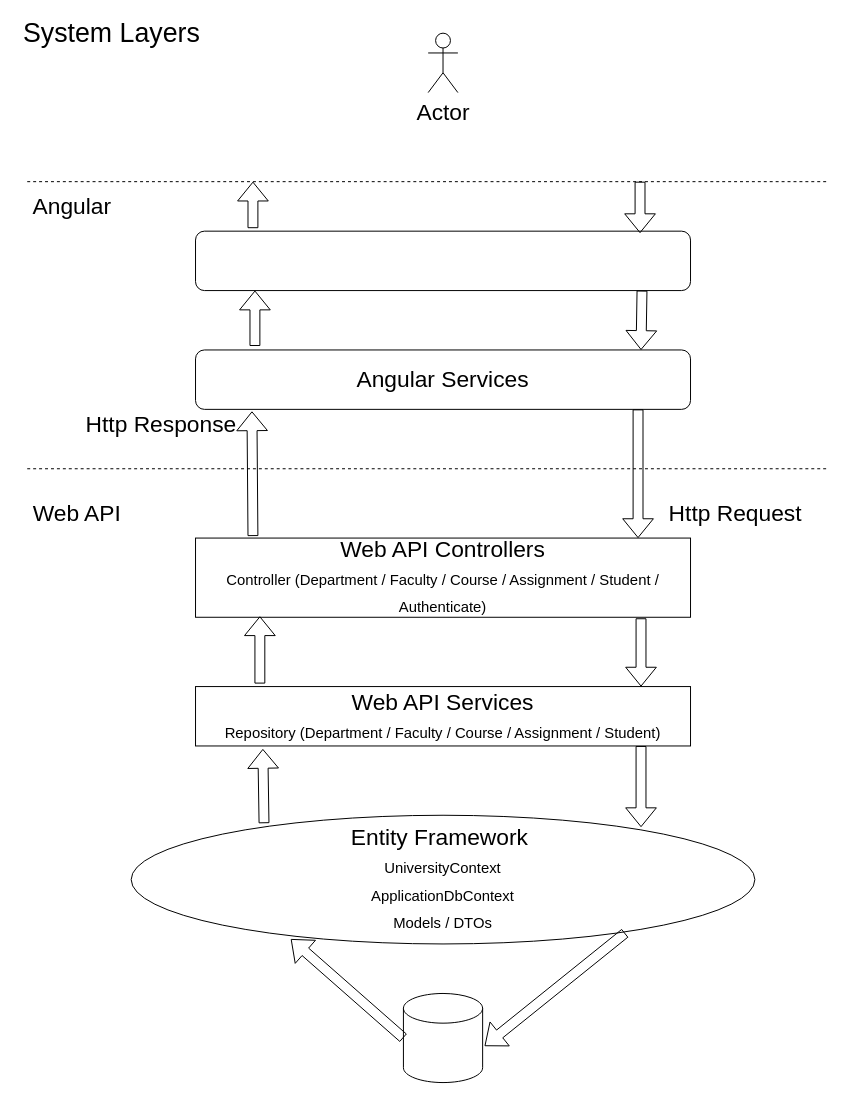
This 847x1100 diagram has some shape labels left out. Here are the shapes that lost their labels. From the top down, the centre of each, then its label:
the point at 443,260: Angular Components
the point at 442,1037: SQL Server
